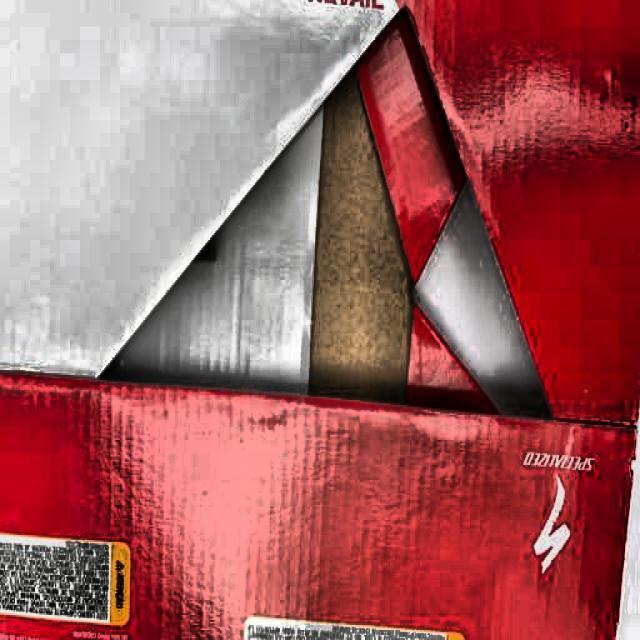cardboard: (0, 366, 638, 638)
